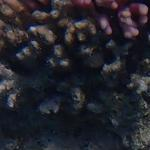dead: (2, 2, 148, 148)
